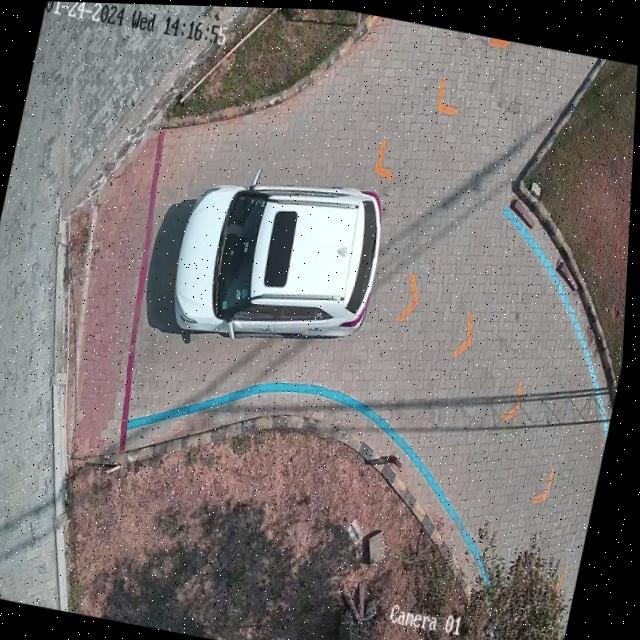car: (171, 179, 386, 336)
